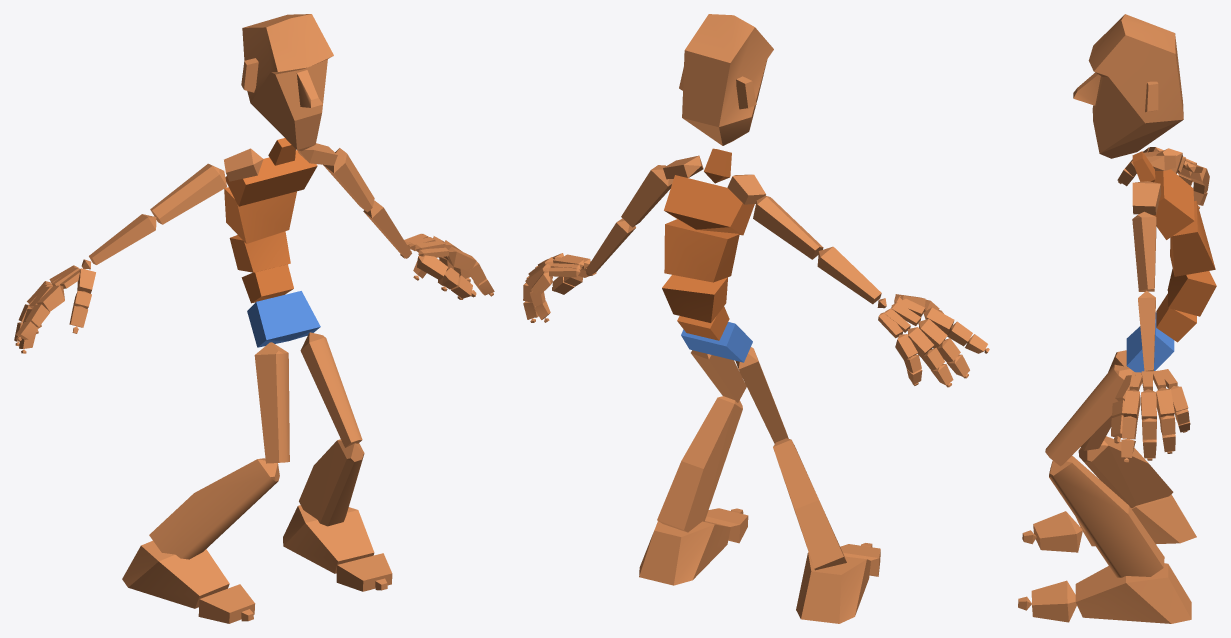
3 views of the same model, side by side, from view 1: azimuth 30°, elevation 25°; view 2: azimuth 150°, elevation 25°; view 3: azimuth 270°, elevation 25° (orthographic). The views are drawn at different scales.
Parts seen in each view (by area): view 1: BOPED_Head, BOPED_R_leg, BOPED_R_foot, BOPED_R_foot01, BOPED_L_leg, BOPED_R_legup, BOPED_L_legup, Bone01, Bone05, Bone04, BOPED_R_arm_upper, Bone03 (+7 smaller); view 2: BOPED_Head, BOPED_L_leg, BOPED_R_foot01, BOPED_R_foot, BOPED_R_leg, Bone04, Bone05, Bone03, BOPED_R_arm_upper, BOPED_R_legup, Bone01, BOPED_R_arm_fore (+9 smaller); view 3: BOPED_Head, BOPED_L_leg, BOPED_R_foot01, BOPED_R_leg, BOPED_L_legup, Bone05, BOPED_R_foot, Bone04, Bone03, BOPED_L_arm_upper, BOPED_R_foot_toe01, BOPED_R_foot_toe04 (+14 smaller).
Part boxes in pixels (<box>): BOPED_Head: <box>241,14,333,151</box>; BOPED_R_leg: <box>149,458,279,559</box>; BOPED_R_foot: <box>122,540,229,608</box>; BOPED_R_foot01: <box>283,505,374,573</box>; BOPED_L_leg: <box>299,439,364,526</box>; BOPED_R_legup: <box>254,342,289,463</box>; BOPED_L_legup: <box>300,332,362,447</box>; Bone01: <box>247,291,320,347</box>; Bone05: <box>225,150,317,206</box>; Bone04: <box>224,187,296,243</box>; BOPED_R_arm_upper: <box>150,163,226,224</box>; Bone03: <box>229,231,290,272</box>; BOPED_Head: <box>679,14,773,145</box>; BOPED_L_leg: <box>657,396,742,532</box>; BOPED_R_foot01: <box>639,521,730,585</box>; BOPED_R_foot: <box>796,552,870,623</box>; BOPED_R_leg: <box>773,438,846,570</box>; Bone04: <box>664,219,739,282</box>; Bone05: <box>664,175,754,235</box>; Bone03: <box>662,275,727,322</box>; BOPED_R_arm_upper: <box>753,195,823,259</box>; BOPED_R_legup: <box>735,347,788,443</box>; Bone01: <box>681,322,752,362</box>; BOPED_R_arm_fore: <box>817,246,881,304</box>; BOPED_Head: <box>1073,14,1183,158</box>; BOPED_L_leg: <box>1049,456,1164,577</box>; BOPED_R_foot01: <box>1075,563,1191,623</box>; BOPED_R_leg: <box>1078,436,1173,507</box>; BOPED_L_legup: <box>1045,364,1133,466</box>; Bone05: <box>1152,169,1194,239</box>; BOPED_R_foot: <box>1076,494,1196,546</box>; Bone04: <box>1170,201,1215,276</box>; Bone03: <box>1167,269,1216,316</box>; BOPED_L_arm_upper: <box>1132,211,1156,291</box>; BOPED_R_foot_toe01: <box>1033,511,1082,552</box>; BOPED_R_foot_toe04: <box>1031,580,1076,622</box>.
Size of the model in its own units: 159 by 178 by 56.5.
